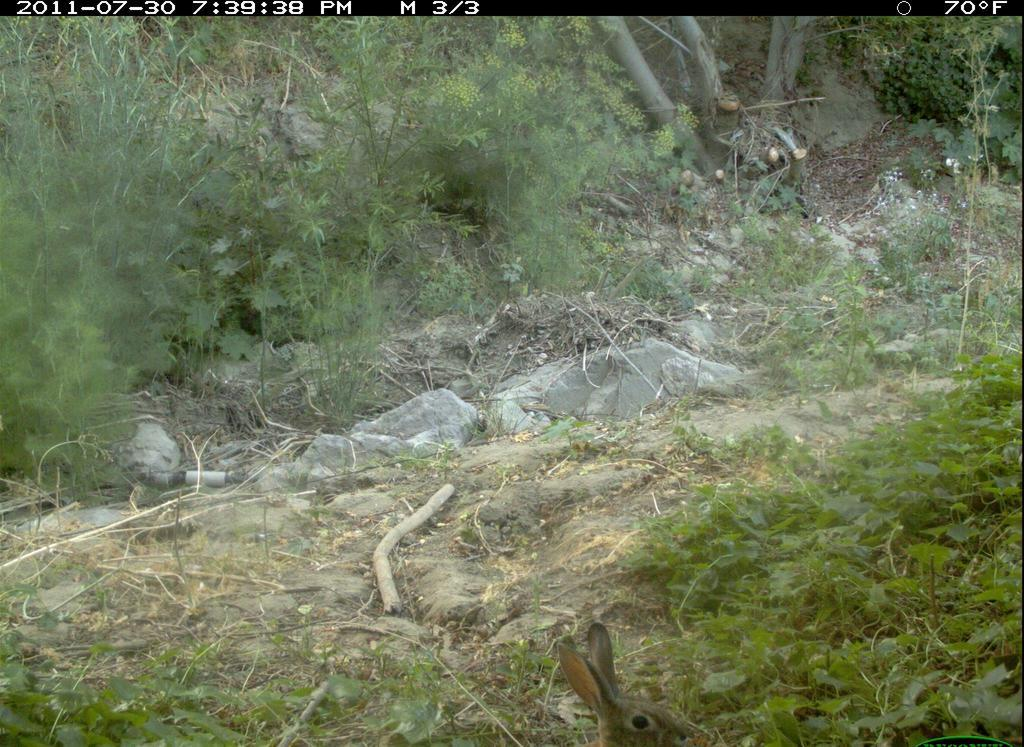rabbit: (542, 615, 700, 747)
